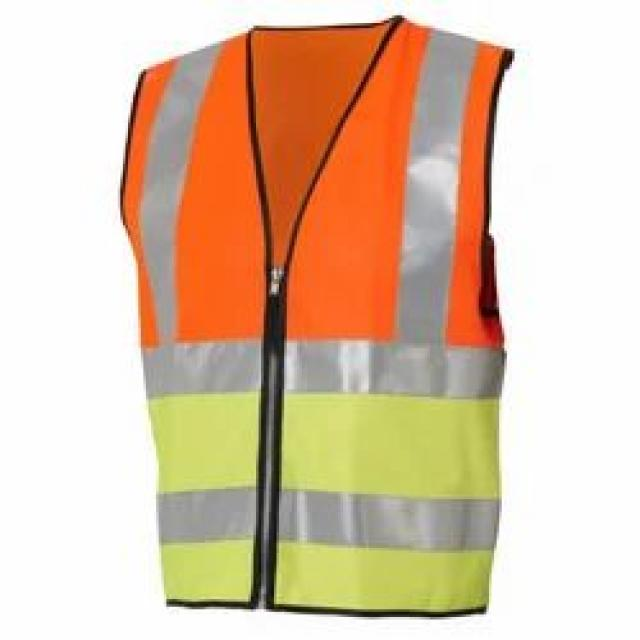Reflective-Jacket: (82, 5, 545, 640)
